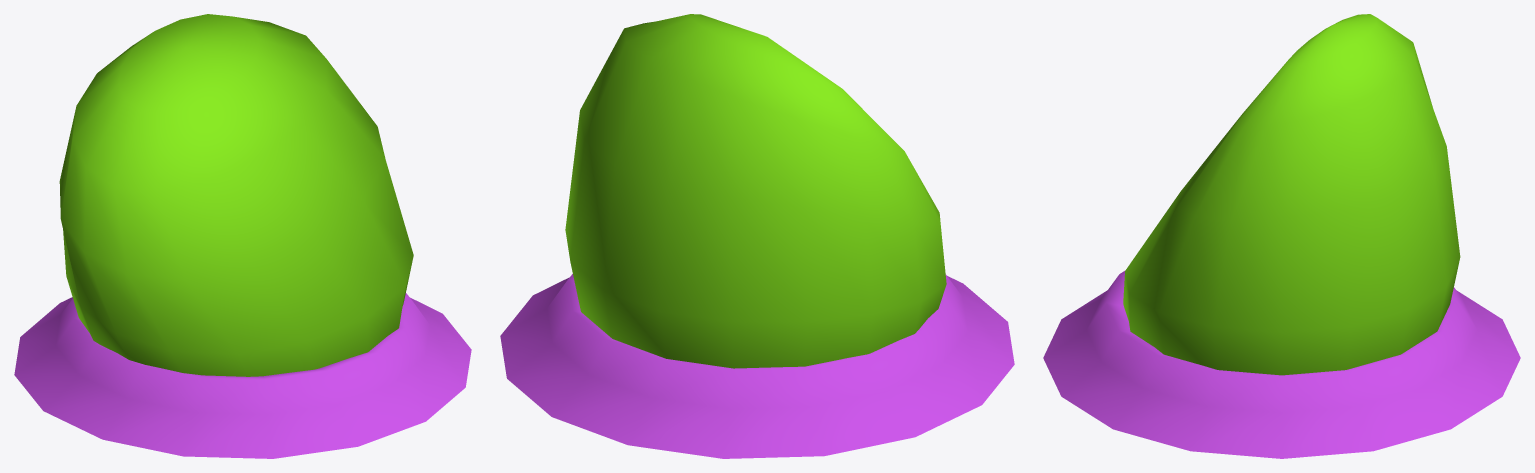
The model's file is BLEND SHAPE EGG TEST.fbx.
3 renders of one model, left to right at view 1: azimuth 30°, elevation 25°; view 2: azimuth 150°, elevation 25°; view 3: azimuth 270°, elevation 25°, orthographic. The views are drawn at different scales.
Visible parts, largest first — view 1: Egg.001; view 2: Egg.001; view 3: Egg.001.
Boxes of the visible parts, box(x1,y1,x2,y2) form: Egg.001: box(14, 14, 471, 458); Egg.001: box(500, 14, 1014, 458); Egg.001: box(1043, 14, 1520, 458).
Size of the model in its own units: 1.2 by 1.09 by 1.2.
